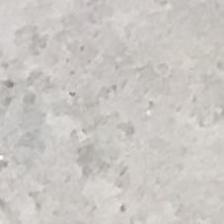Non_Crack: (43, 31, 202, 186)
